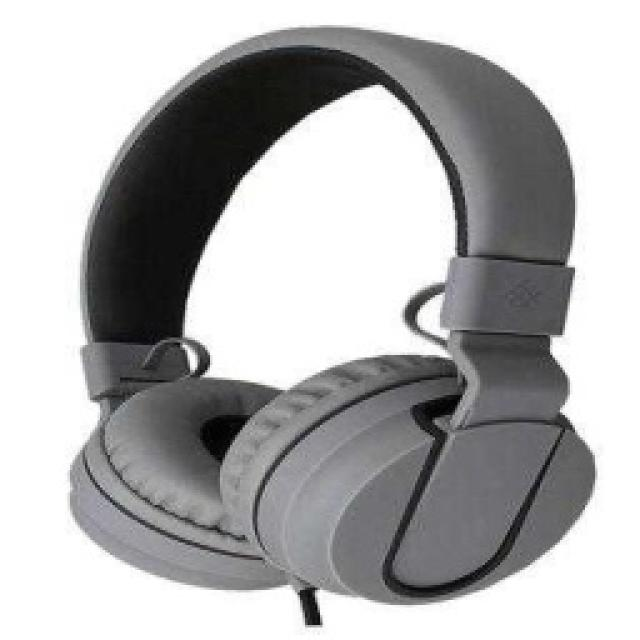headphones: (65, 22, 595, 610)
